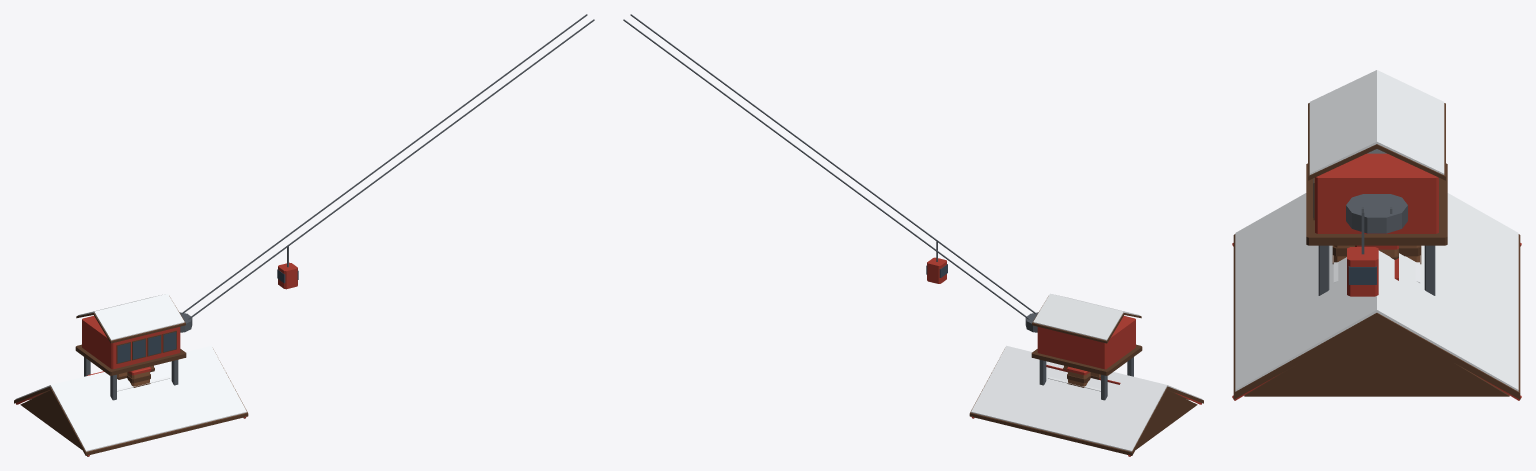
Rendered from Kit.fbx.
The picture shows the model from 3 angles, left to right: view 1: azimuth 30°, elevation 25°; view 2: azimuth 150°, elevation 25°; view 3: azimuth 270°, elevation 25°; orthographic projection. The views are drawn at different scales.
Visible parts, largest first — view 1: LodgeRoof_SP_Snow, GondolaStation_SP_Steel, GondolaStation_SP_Snow, LodgeRoof_SP_LogDark, GondolaStation_SP_Red, GondolaStation_SP_LogDark, GondolaStation_SP_Glass; view 2: LodgeRoof_SP_Snow, GondolaStation_SP_Red, GondolaStation_SP_Steel, GondolaStation_SP_Snow, LodgeRoof_SP_LogDark, GondolaStation_SP_LogDark; view 3: LodgeRoof_SP_Snow, LodgeRoof_SP_LogDark, GondolaStation_SP_Snow, GondolaStation_SP_Red, GondolaStation_SP_LogDark, GondolaStation_SP_Steel, GondolaStation_SP_Glass, LodgeWall5x10_SP_LogDark.
Boxes of the visible parts, x1=… form: LodgeRoof_SP_Snow: x1=15, y1=345, x2=246, y2=451; GondolaStation_SP_Steel: x1=84, y1=14, x2=594, y2=400; GondolaStation_SP_Snow: x1=77, y1=293, x2=184, y2=340; LodgeRoof_SP_LogDark: x1=14, y1=349, x2=248, y2=455; GondolaStation_SP_Red: x1=82, y1=262, x2=297, y2=369; GondolaStation_SP_LogDark: x1=75, y1=296, x2=186, y2=375; GondolaStation_SP_Glass: x1=117, y1=269, x2=298, y2=363; LodgeRoof_SP_Snow: x1=971, y1=345, x2=1202, y2=451; GondolaStation_SP_Red: x1=927, y1=257, x2=1135, y2=369; GondolaStation_SP_Steel: x1=623, y1=14, x2=1133, y2=400; GondolaStation_SP_Snow: x1=1033, y1=293, x2=1140, y2=340; LodgeRoof_SP_LogDark: x1=969, y1=349, x2=1203, y2=455; GondolaStation_SP_LogDark: x1=1031, y1=296, x2=1142, y2=375; LodgeRoof_SP_Snow: x1=1235, y1=193, x2=1518, y2=391; LodgeRoof_SP_LogDark: x1=1233, y1=234, x2=1520, y2=399; GondolaStation_SP_Snow: x1=1309, y1=70, x2=1444, y2=174; GondolaStation_SP_Red: x1=1315, y1=153, x2=1438, y2=296; GondolaStation_SP_LogDark: x1=1306, y1=103, x2=1447, y2=245; GondolaStation_SP_Steel: x1=1318, y1=194, x2=1435, y2=295; GondolaStation_SP_Glass: x1=1313, y1=178, x2=1376, y2=284; LodgeWall5x10_SP_LogDark: x1=1332, y1=245, x2=1421, y2=264.
Size of the model in its own units: 141 by 70.52 by 32.68.
